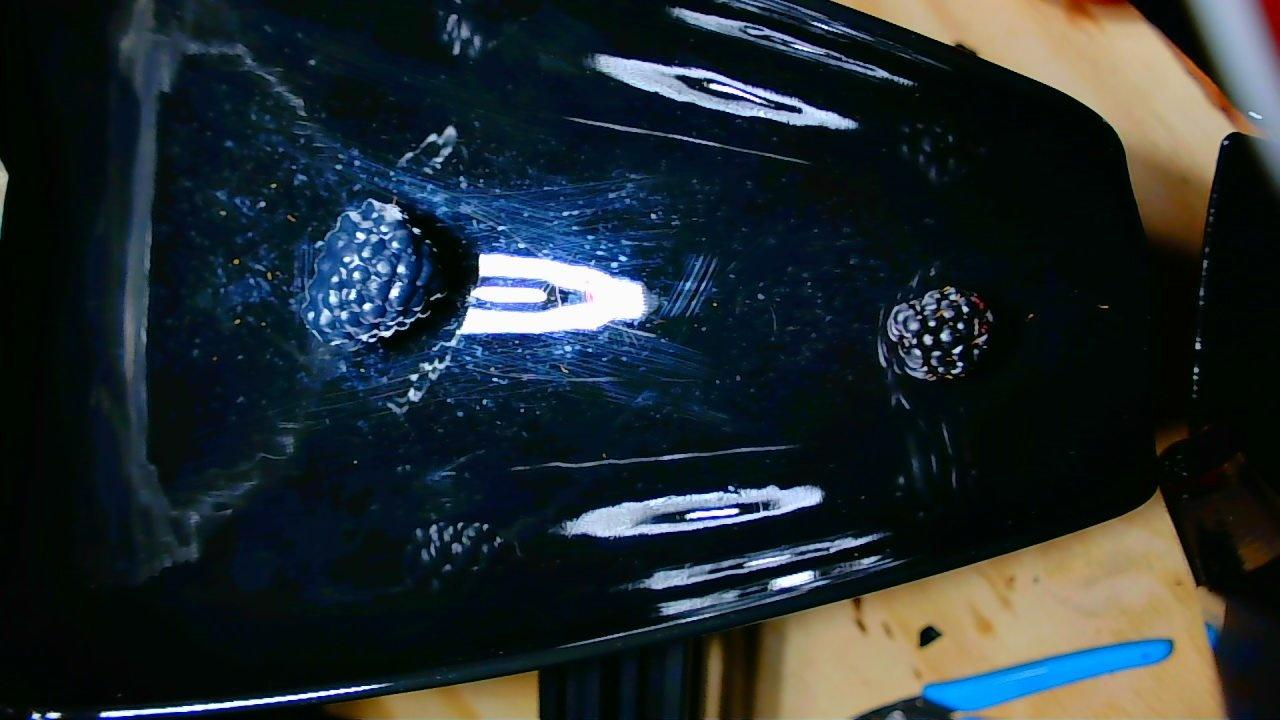berry: (301, 199, 440, 346), (886, 286, 992, 380)
